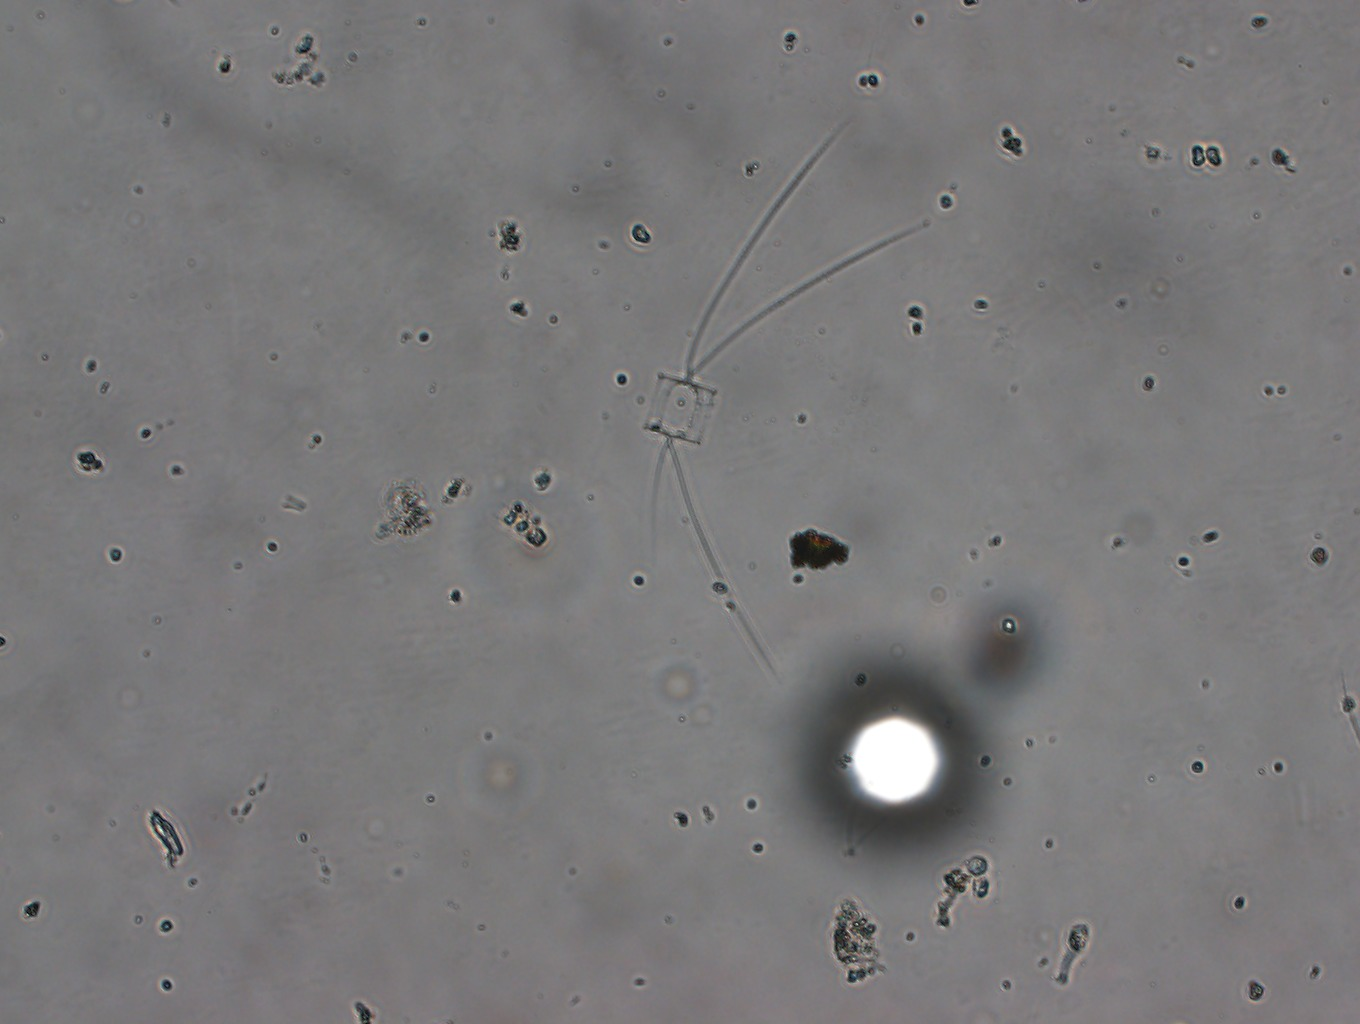chaetoceros: (621, 133, 928, 675)
